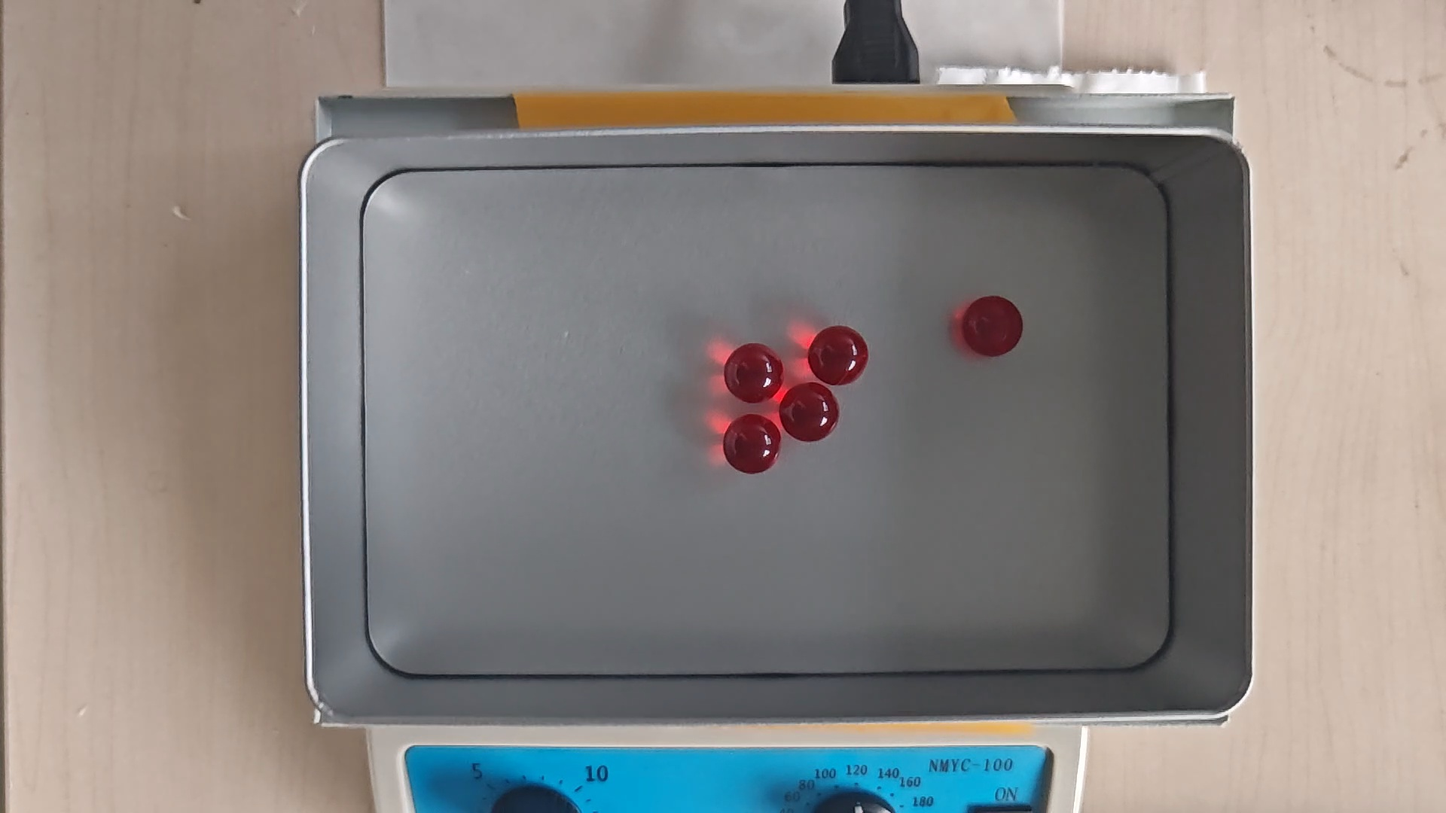ball: (809, 324, 871, 387), (962, 296, 1024, 357), (723, 343, 784, 403), (781, 383, 840, 444), (722, 416, 782, 473)
container: (362, 163, 1173, 675)
